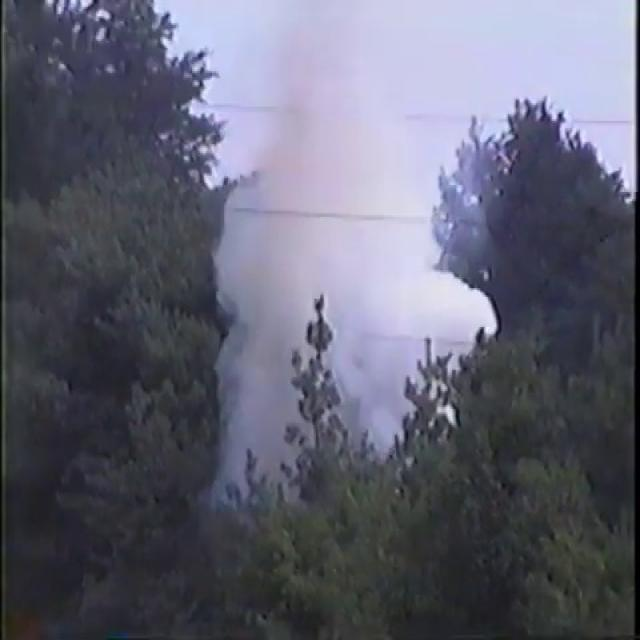Smoke: (190, 1, 496, 500)
